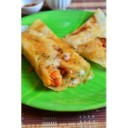dosa: (22, 17, 94, 87), (62, 9, 105, 69)
